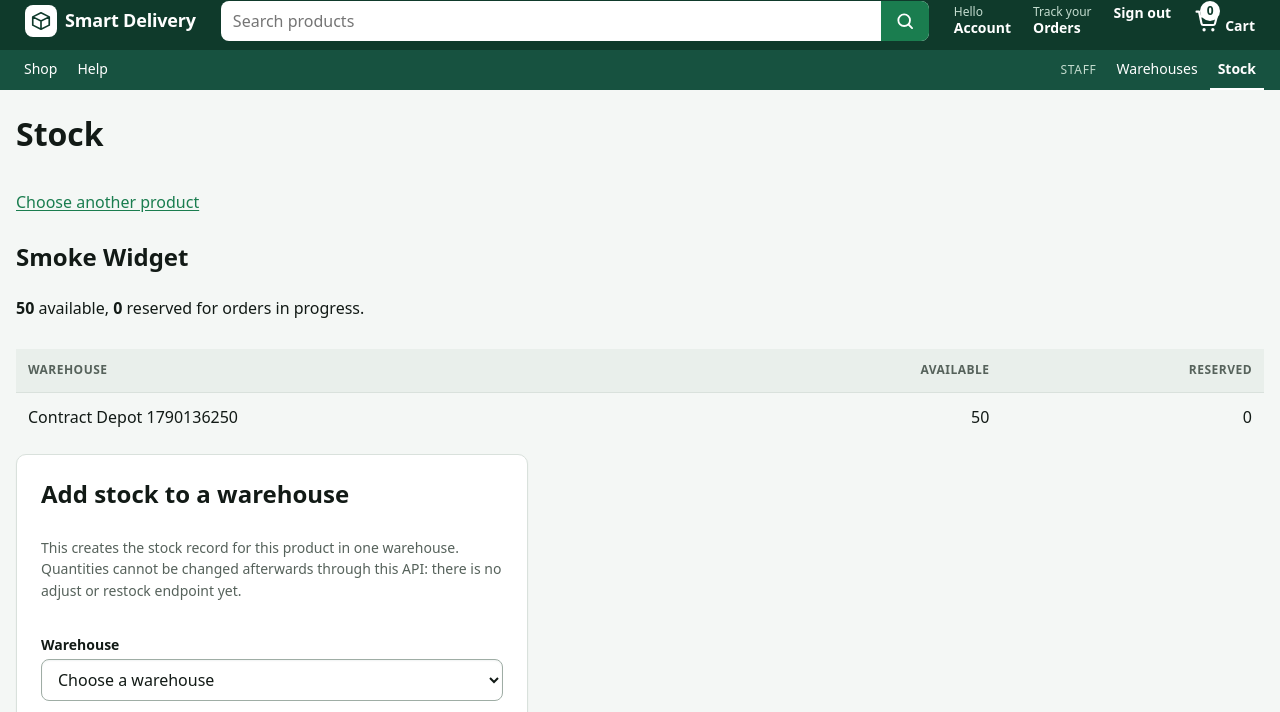
Test: adding stock › explains the create-only API on a 409 instead of a generic error
Select "Contract Depot 1790136250" in the dropdown labelled "Warehouse" at (272, 680), box [41,659,503,701]
(page scrolled)
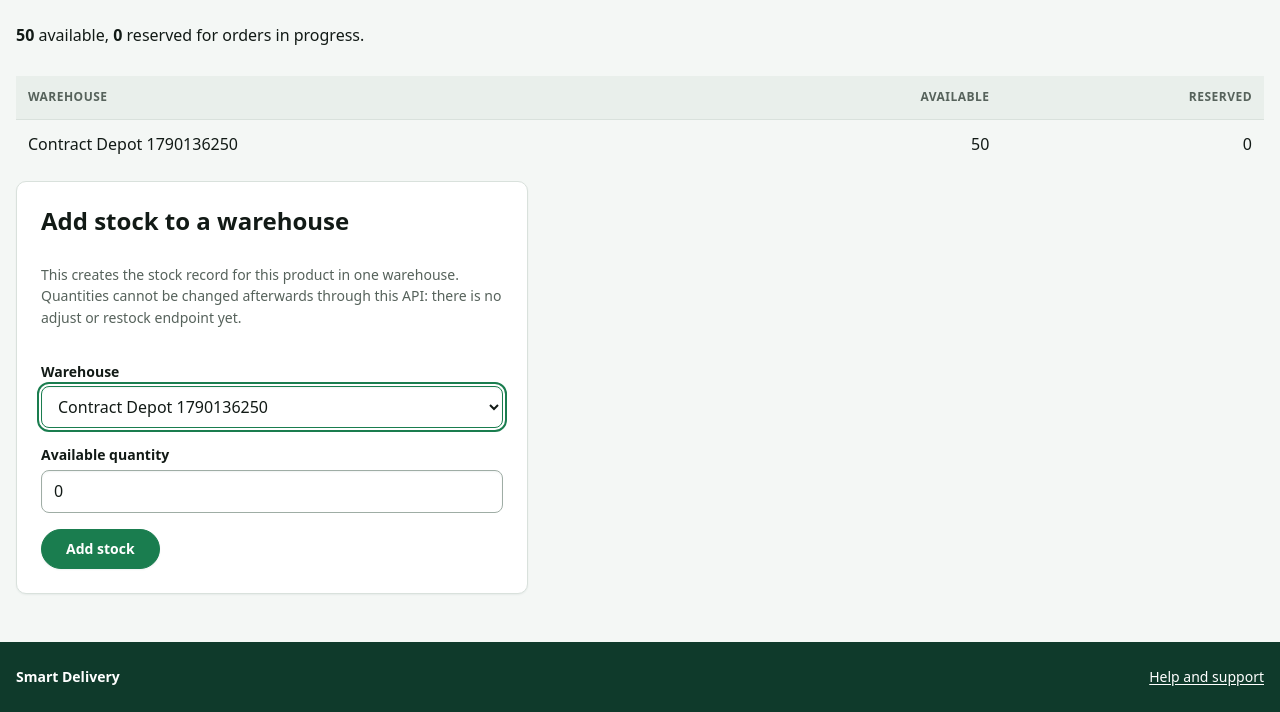
Replace the text in the number field labelled "Available quantity" with "40" at (272, 492), box [41,470,503,513]
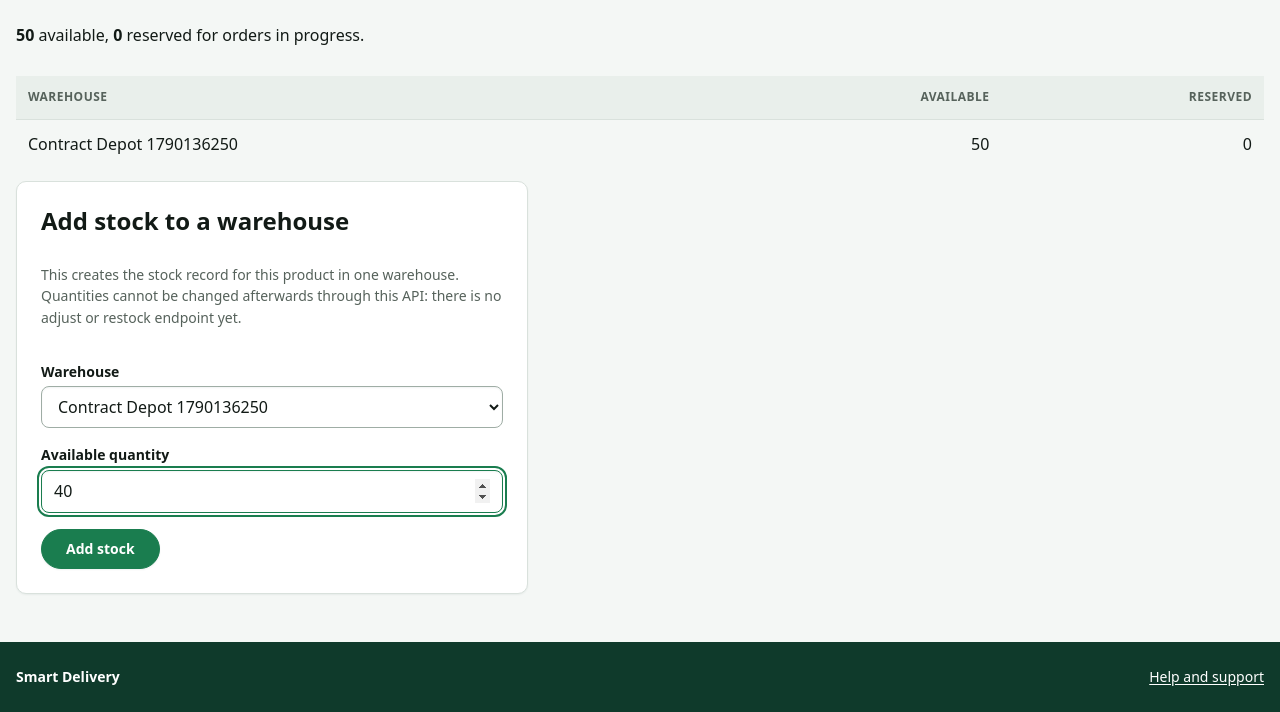
Click the button "Add stock".
click(100, 549)  # box [41,529,160,569]
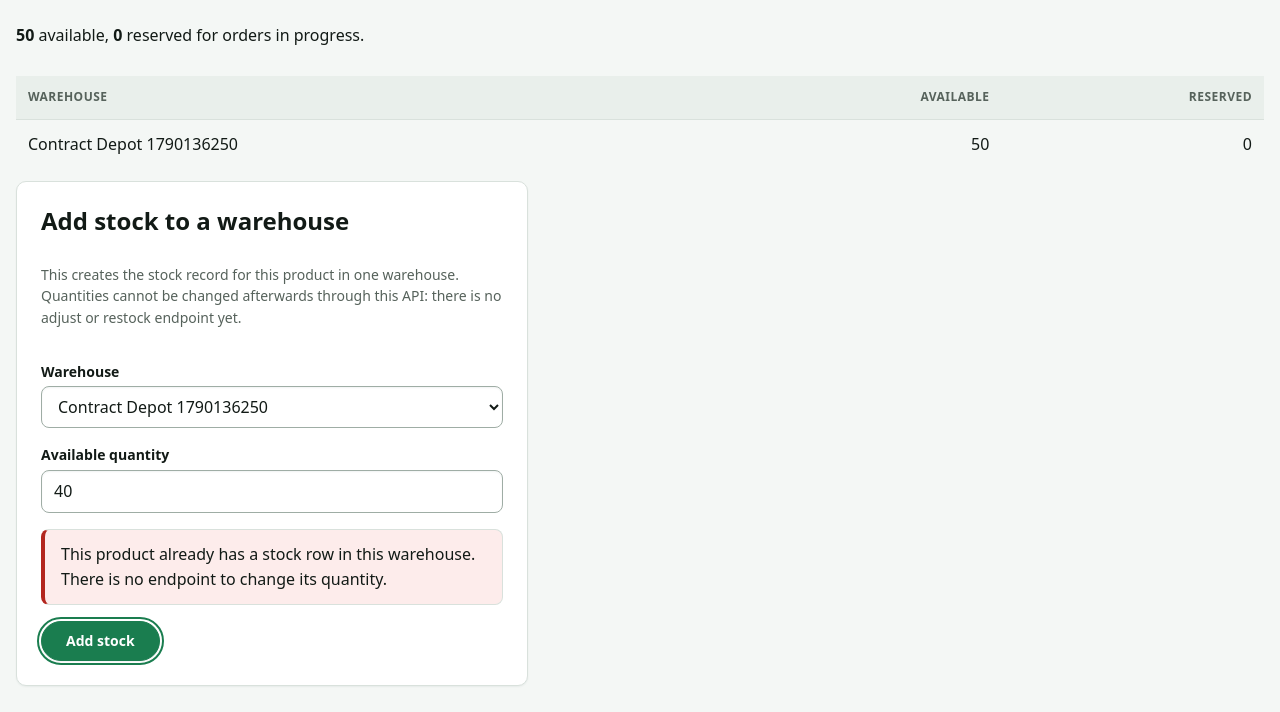
Now the text "This product already has a stock row in this warehouse. There is no endpoint to change its quantity." is shown, box [61,543,475,590]
